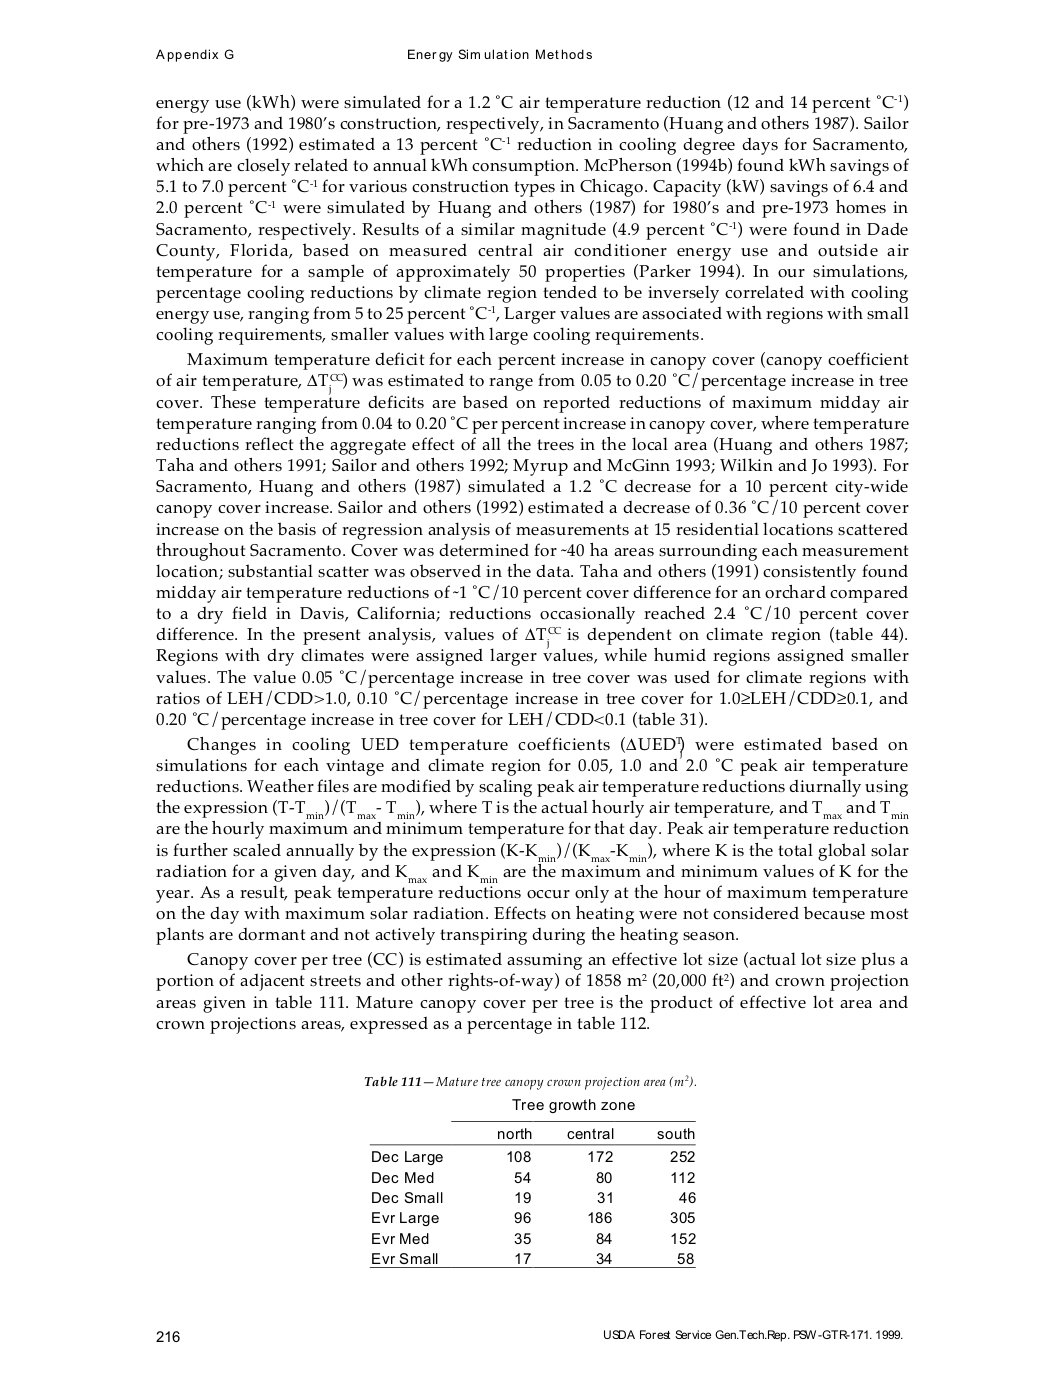Table: (364, 1075, 695, 1267)
